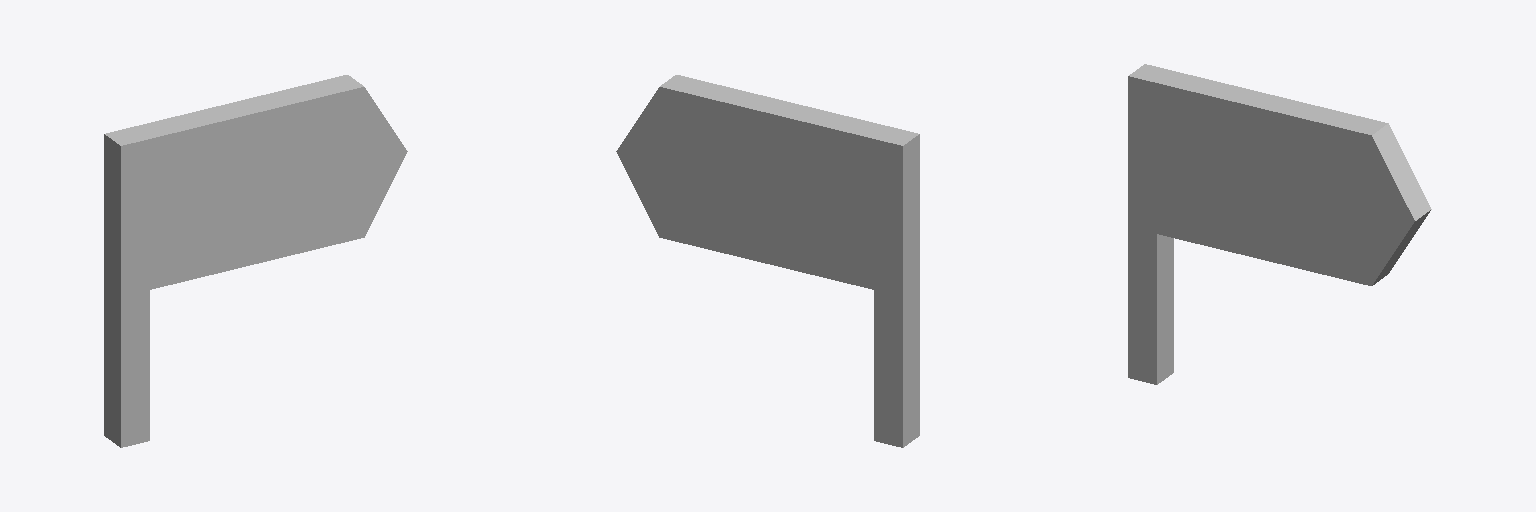
The model's file is sign-post.obj.
3 views of the same model, side by side, from view 1: azimuth 30°, elevation 25°; view 2: azimuth 150°, elevation 25°; view 3: azimuth 330°, elevation 25° (orthographic).
Visible parts, largest first — view 1: sign_post_Cube.011; view 2: sign_post_Cube.011; view 3: sign_post_Cube.011.
Part boxes in pixels (x1,y1,x2,y2): sign_post_Cube.011: (104,75,407,447); sign_post_Cube.011: (616,75,919,447); sign_post_Cube.011: (1128,64,1431,384).
Size of the model in its own units: 0.1987 by 0.2 by 0.02.